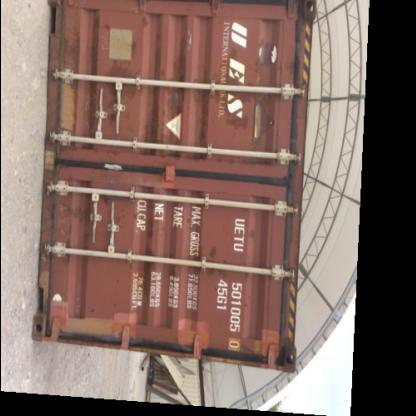Damage: (48, 202, 108, 248), (217, 69, 258, 136), (160, 64, 214, 112), (102, 62, 142, 114), (176, 244, 230, 280), (129, 244, 162, 276), (242, 224, 264, 250)
